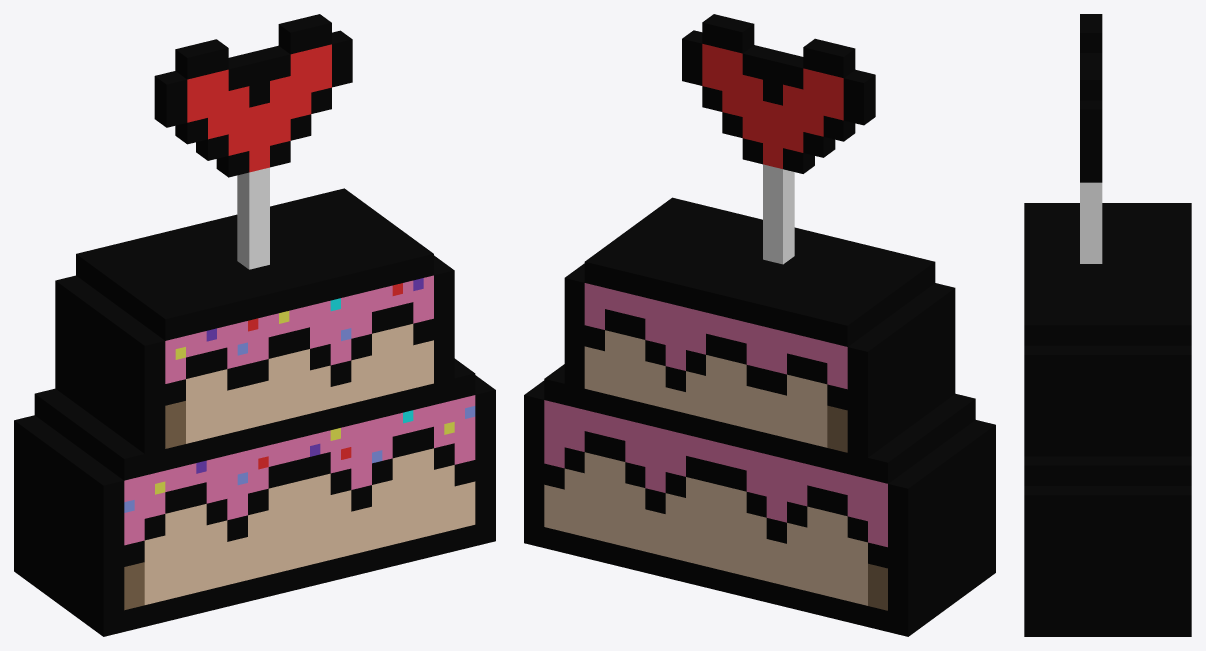
Rendered from pastel.glb.
3 renders of one model, left to right at view 1: azimuth 30°, elevation 25°; view 2: azimuth 150°, elevation 25°; view 3: azimuth 270°, elevation 25°, orthographic. The views are drawn at different scales.
Parts seen in each view (by area): view 1: Node1; view 2: Node1; view 3: Node1.
Boxes of the visible parts, x1=… form: Node1: x1=14, y1=14, x2=495, y2=636; Node1: x1=524, y1=14, x2=995, y2=636; Node1: x1=1024, y1=14, x2=1191, y2=636.
Size of the model in its own units: 3.8 by 4.9 by 1.5.
1 material, 1 textured.
